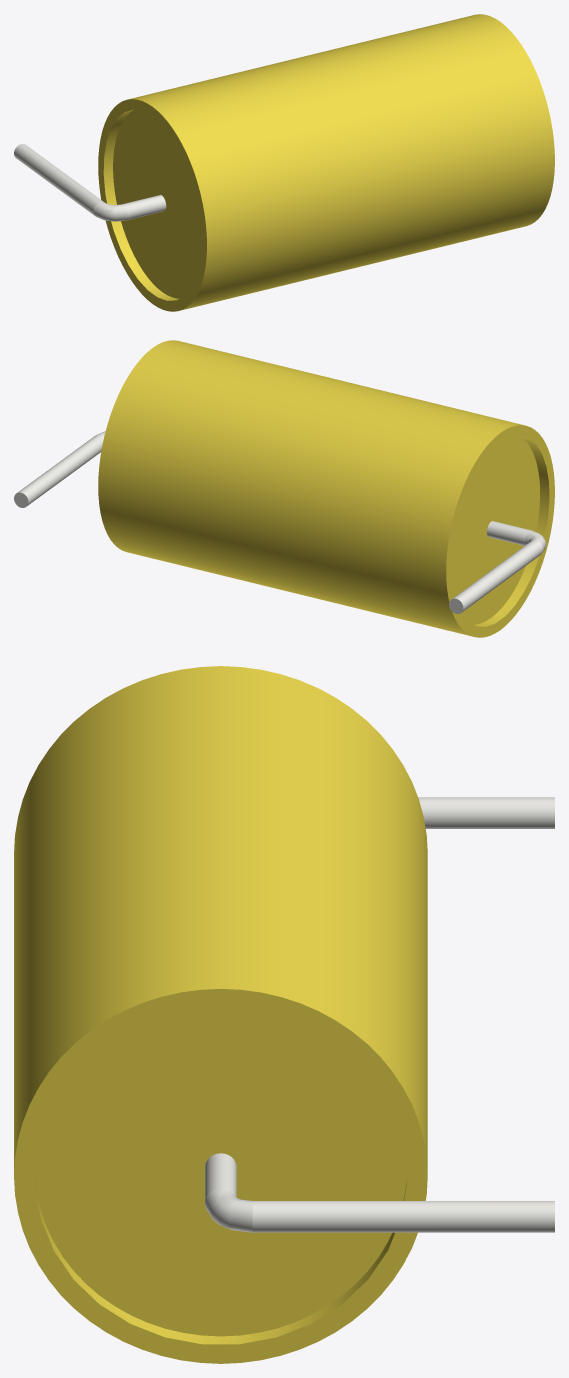
Rendered from C_Axial_L12.0mm_D6.5mm_P15.00mm_Horizontal.glb.
3 views of the same model, one above another, from view 1: azimuth 30°, elevation 25°; view 2: azimuth 150°, elevation 25°; view 3: azimuth 270°, elevation 25° (orthographic). The views are drawn at different scales.
Parts seen in each view (by area): view 1: Shape_IndexedFaceSet, Shape_IndexedFaceSet.005, Shape_IndexedFaceSet.001, Shape_IndexedFaceSet.003, Shape_IndexedFaceSet.008, Shape_IndexedFaceSet.010, Shape_IndexedFaceSet.009; view 2: Shape_IndexedFaceSet, Shape_IndexedFaceSet.005, Shape_IndexedFaceSet.001, Shape_IndexedFaceSet.003, Shape_IndexedFaceSet.008, Shape_IndexedFaceSet.012, Shape_IndexedFaceSet.010; view 3: Shape_IndexedFaceSet, Shape_IndexedFaceSet.006, Shape_IndexedFaceSet.002, Shape_IndexedFaceSet.012, Shape_IndexedFaceSet.008, Shape_IndexedFaceSet.004, Shape_IndexedFaceSet.011, Shape_IndexedFaceSet.010.
Part boxes in pixels (x1,y1,x2,y2): Shape_IndexedFaceSet: (128, 14, 554, 310); Shape_IndexedFaceSet.005: (113, 110, 201, 298); Shape_IndexedFaceSet.001: (98, 99, 206, 311); Shape_IndexedFaceSet.003: (103, 109, 178, 300); Shape_IndexedFaceSet.008: (14, 144, 104, 215); Shape_IndexedFaceSet.010: (122, 195, 166, 220); Shape_IndexedFaceSet.009: (93, 202, 127, 221); Shape_IndexedFaceSet: (98, 340, 523, 636); Shape_IndexedFaceSet.005: (451, 436, 539, 624); Shape_IndexedFaceSet.001: (446, 425, 554, 637); Shape_IndexedFaceSet.003: (474, 435, 549, 626); Shape_IndexedFaceSet.008: (452, 540, 542, 612); Shape_IndexedFaceSet.012: (17, 434, 104, 505); Shape_IndexedFaceSet.010: (487, 521, 530, 545); Shape_IndexedFaceSet: (14, 666, 427, 1172); Shape_IndexedFaceSet.006: (35, 1007, 406, 1336); Shape_IndexedFaceSet.002: (14, 989, 427, 1363); Shape_IndexedFaceSet.012: (252, 1201, 554, 1232); Shape_IndexedFaceSet.008: (418, 797, 554, 828); Shape_IndexedFaceSet.004: (35, 1180, 406, 1344); Shape_IndexedFaceSet.011: (205, 1189, 252, 1232); Shape_IndexedFaceSet.010: (205, 1153, 236, 1201).
Size of the model in its own units: 6.1 by 2.56 by 3.35.
